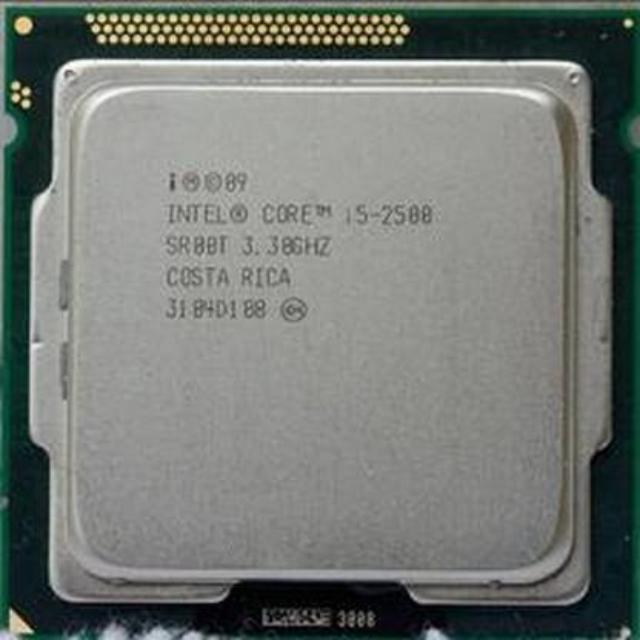CPU: (1, 11, 630, 634)
